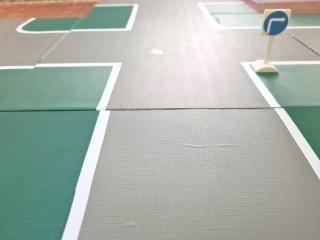right: (254, 6, 297, 44)
